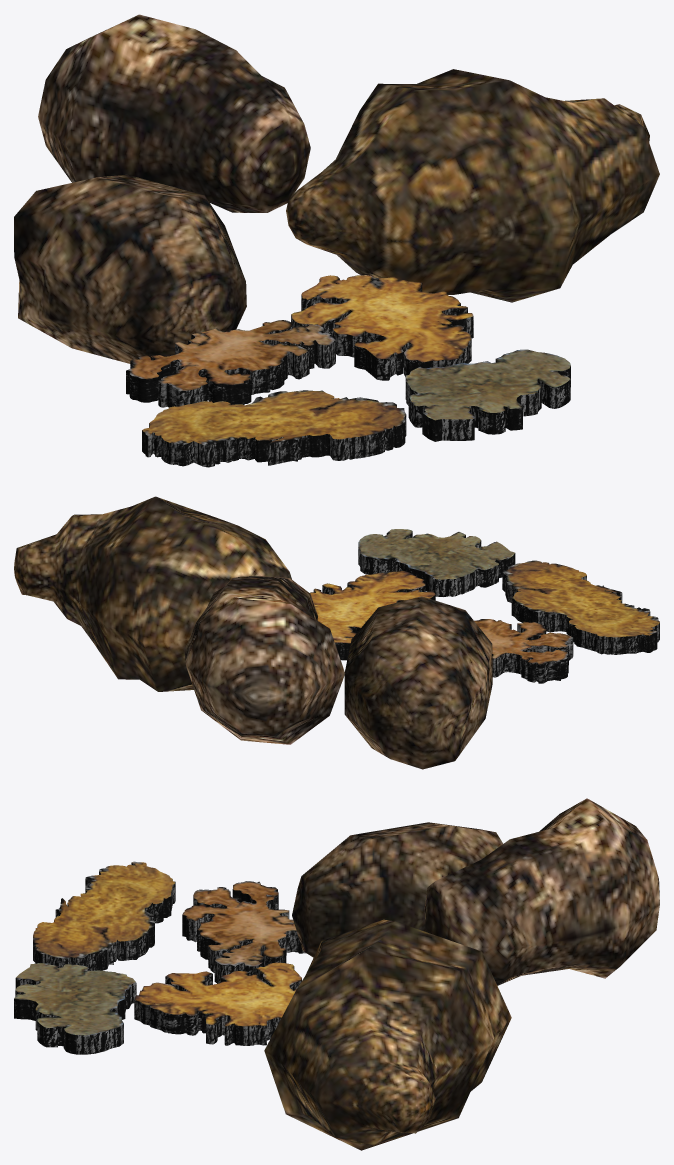
The model's file is chuanxiong.FBX.
The picture shows the model from 3 angles, top to bottom: view 1: azimuth 30°, elevation 25°; view 2: azimuth 150°, elevation 25°; view 3: azimuth 270°, elevation 25°; orthographic projection. The views are drawn at different scales.
Visible parts, largest first — view 1: Cylinder001, Sphere002, Sphere001, Line002, Line003, Line001, Line004; view 2: Cylinder001, Sphere002, Sphere001, Line002, Line004, Line003, Line001; view 3: Cylinder001, Sphere002, Sphere001, Line002, Line003, Line004, Line001.
Part boxes in pixels (x1=…): Cylinder001: x1=286, y1=69, x2=659, y2=302; Sphere002: x1=38, y1=14, x2=310, y2=212; Sphere001: x1=14, y1=174, x2=246, y2=363; Line002: x1=142, y1=390, x2=406, y2=467; Line003: x1=291, y1=275, x2=473, y2=380; Line001: x1=126, y1=320, x2=335, y2=407; Line004: x1=405, y1=349, x2=570, y2=441; Cylinder001: x1=14, y1=496, x2=291, y2=691; Sphere002: x1=185, y1=576, x2=345, y2=744; Sphere001: x1=344, y1=596, x2=492, y2=769; Line002: x1=502, y1=560, x2=659, y2=654; Line004: x1=358, y1=529, x2=515, y2=596; Line003: x1=310, y1=570, x2=435, y2=660; Line001: x1=474, y1=619, x2=573, y2=683; Cylinder001: x1=264, y1=919, x2=511, y2=1150; Sphere002: x1=424, y1=798, x2=659, y2=985; Sphere001: x1=292, y1=822, x2=503, y2=957; Line002: x1=33, y1=861, x2=175, y2=970; Line003: x1=134, y1=962, x2=301, y2=1045; Line004: x1=14, y1=963, x2=136, y2=1054; Line001: x1=182, y1=881, x2=306, y2=983.
Size of the model in its own units: 45.69 by 16.69 by 43.49.
